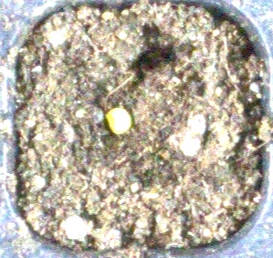pepper seed: (38, 39, 172, 176)
